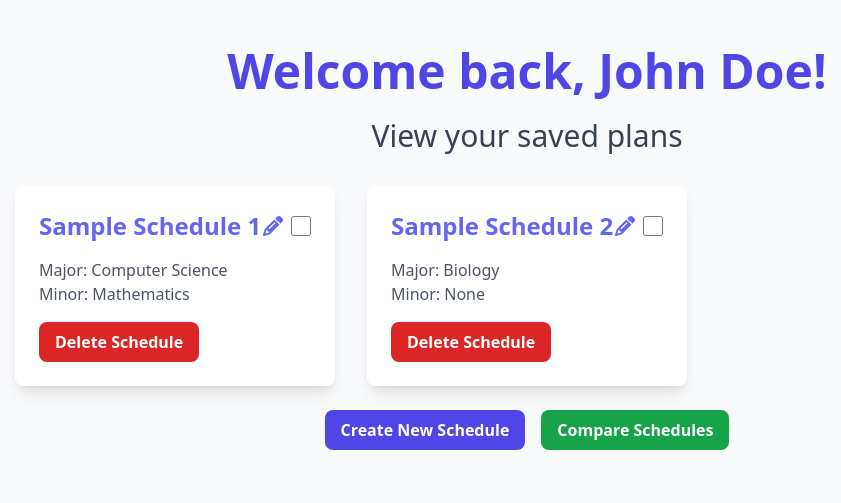
HomePage › displays error message if less than two schedules are selected for comparison
Note: Click the "Compare Schedules" button without selecting any schedules
What coordinates should you click on to do the following:
click the button "Compare Schedules"
I would click on:
 (635, 430)
Its box is [541,410,729,450].
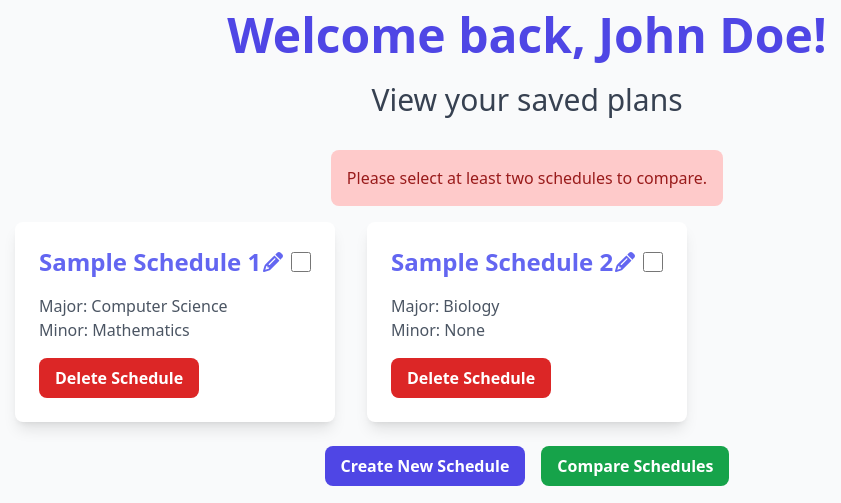
Expected: the text "Please select at least two schedules to compare." is shown, [331,150,723,206]
